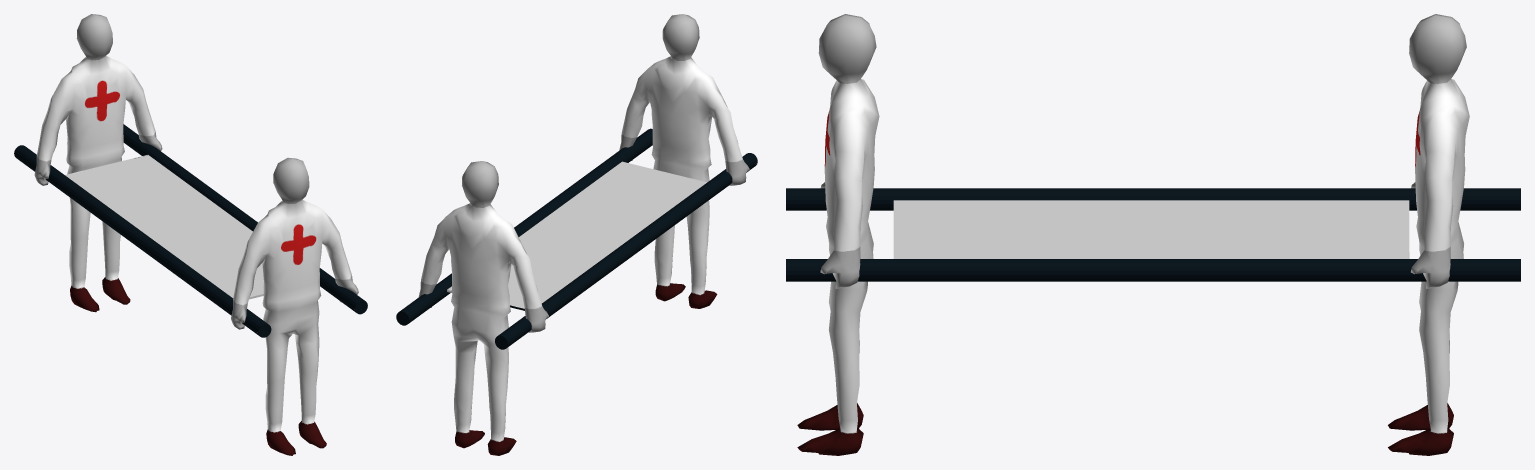
File: Sanitaeter_Anim.fbx
3 renders of one model, left to right at view 1: azimuth 30°, elevation 25°; view 2: azimuth 150°, elevation 25°; view 3: azimuth 270°, elevation 25°, orthographic. The views are drawn at different scales.
Parts seen in each view (by area): view 1: Sanitaeter.001, Sanitaeter, Plane, Cylinder.002, Cylinder.001; view 2: Sanitaeter, Sanitaeter.001, Plane, Cylinder.002, Cylinder.001; view 3: Plane, Sanitaeter.001, Sanitaeter, Cylinder.001, Cylinder.002.
Boxes of the visible parts, bbox=[...] form: Sanitaeter.001: bbox=[231, 157, 358, 455]; Sanitaeter: bbox=[34, 14, 162, 312]; Plane: bbox=[65, 155, 263, 299]; Cylinder.002: bbox=[14, 145, 271, 337]; Cylinder.001: bbox=[123, 124, 367, 314]; Sanitaeter: bbox=[418, 161, 548, 455]; Sanitaeter.001: bbox=[619, 14, 749, 308]; Plane: bbox=[447, 161, 706, 310]; Cylinder.002: bbox=[495, 153, 757, 349]; Cylinder.001: bbox=[396, 128, 652, 325]; Plane: bbox=[893, 200, 1409, 258]; Sanitaeter.001: bbox=[797, 14, 879, 455]; Sanitaeter: bbox=[1388, 14, 1469, 455]; Cylinder.001: bbox=[786, 259, 1520, 281]; Cylinder.002: bbox=[786, 188, 1520, 210].
Size of the model in its own units: 81.7 by 181 by 284.
Materials: 1 (1 with a texture image).
